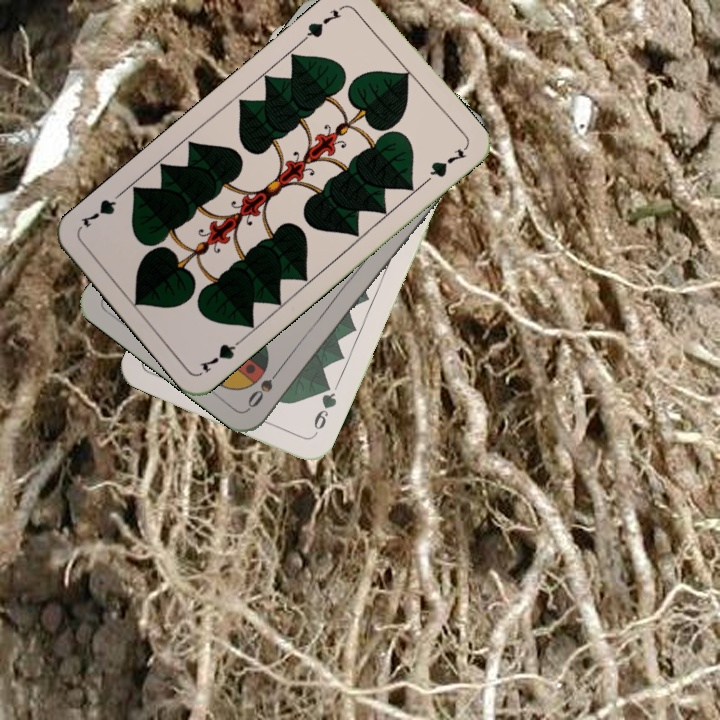G7: (196, 333, 248, 376), (298, 1, 347, 44)
G9: (308, 382, 339, 440)
SO: (243, 361, 286, 411)
